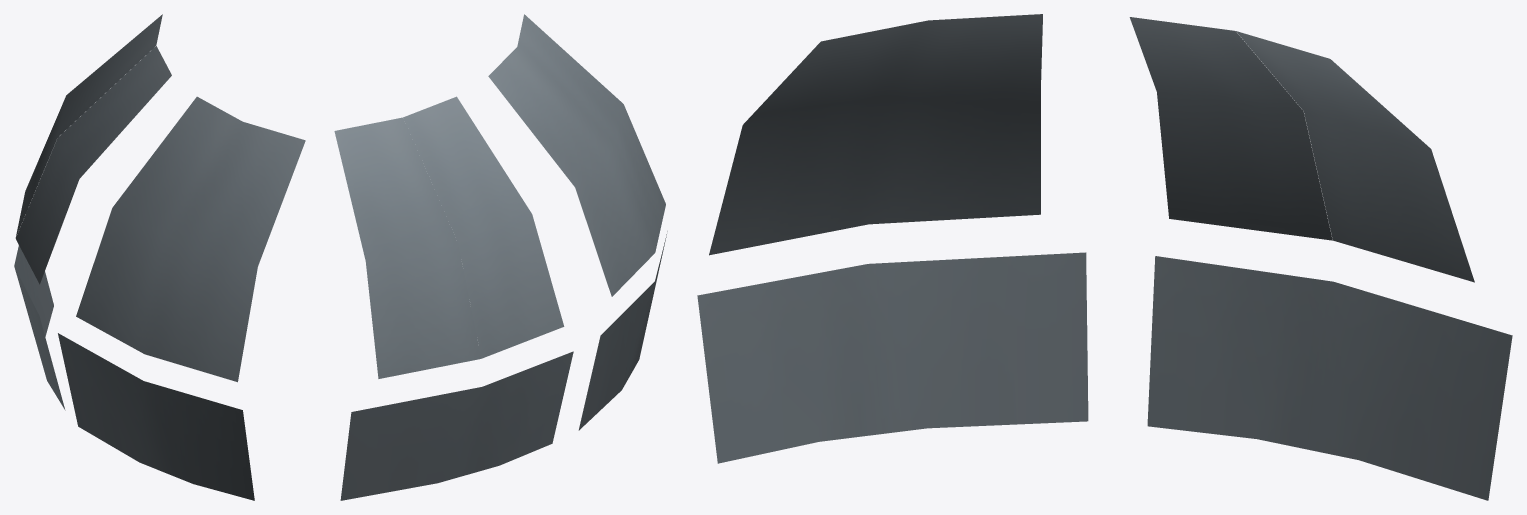
File: cor1_bldg_window_councilchamber03.fbx
The picture shows the model from 3 angles, left to right: view 1: azimuth 30°, elevation 25°; view 2: azimuth 150°, elevation 25°; view 3: azimuth 270°, elevation 25°; orthographic projection. The views are drawn at different scales.
Visible parts, largest first — view 1: window_councilchamber5, cor1_bldg_window_councilchamber03; view 2: cor1_bldg_window_councilchamber03, window_councilchamber5; view 3: window_councilchamber5, cor1_bldg_window_councilchamber03.
Boxes of the visible parts, x1=… form: window_councilchamber5: x1=58, y1=96, x2=305, y2=500; cor1_bldg_window_councilchamber03: x1=14, y1=14, x2=171, y2=410; cor1_bldg_window_councilchamber03: x1=334, y1=96, x2=573, y2=500; window_councilchamber5: x1=488, y1=14, x2=667, y2=430; window_councilchamber5: x1=697, y1=14, x2=1088, y2=463; cor1_bldg_window_councilchamber03: x1=1129, y1=17, x2=1512, y2=500.
Bounding box in the file's own units: 773 × 1264 × 1923.
